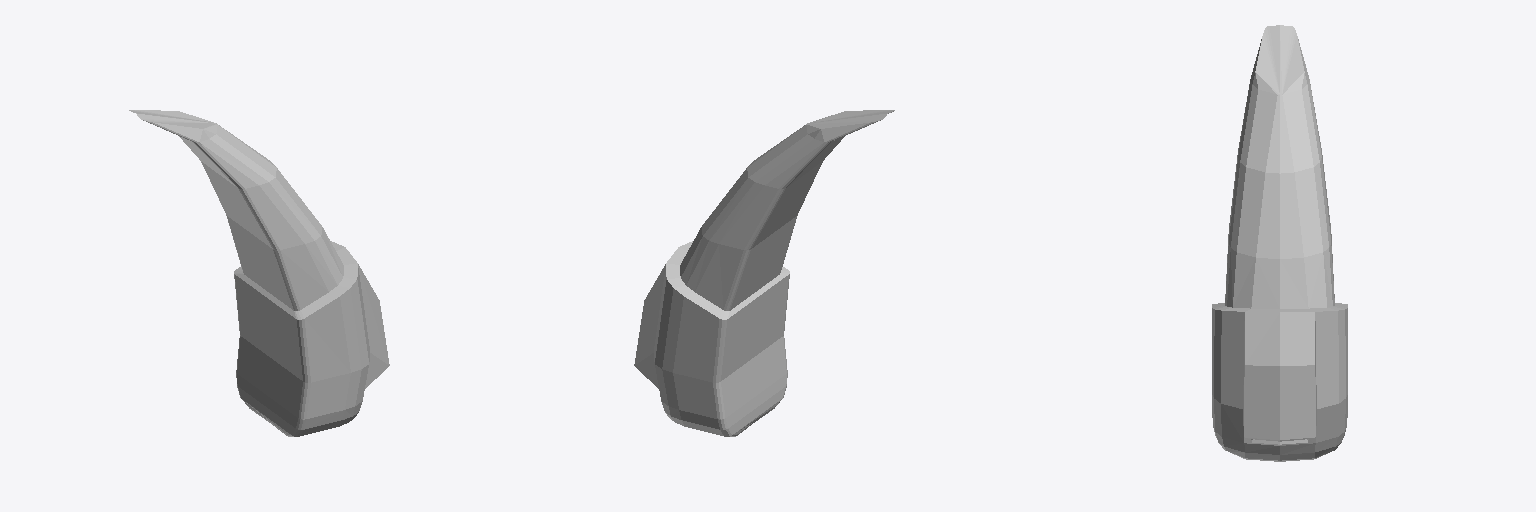
File: character_spaceSoldierArmLeft.obj
3 renders of one model, left to right at view 1: azimuth 30°, elevation 25°; view 2: azimuth 150°, elevation 25°; view 3: azimuth 270°, elevation 25°, orthographic.
Visible parts, largest first — view 1: character_spaceSoldierArmLeft_Cube.5754; view 2: character_spaceSoldierArmLeft_Cube.5754; view 3: character_spaceSoldierArmLeft_Cube.5754.
Part boxes in pixels (x1,y1,x2,y2): character_spaceSoldierArmLeft_Cube.5754: (129, 110, 389, 436); character_spaceSoldierArmLeft_Cube.5754: (634, 110, 894, 436); character_spaceSoldierArmLeft_Cube.5754: (1212, 25, 1347, 461).
Size of the model in its own units: 0.4296 by 0.5799 by 0.2094.